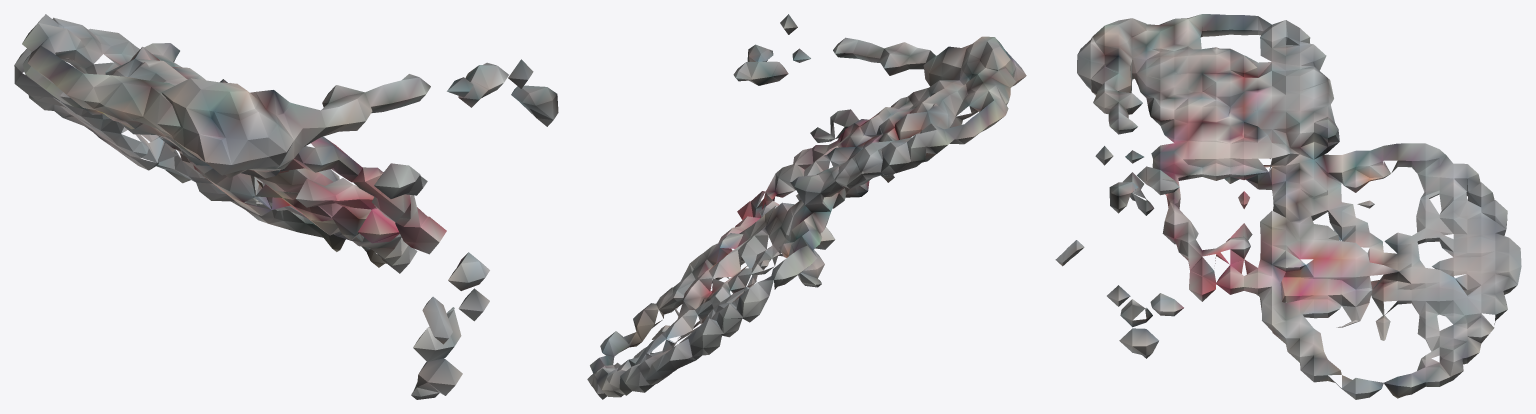
File: 000001_bicycle_sport_bike_10240_64.glb
3 renders of one model, left to right at view 1: azimuth 30°, elevation 25°; view 2: azimuth 150°, elevation 25°; view 3: azimuth 270°, elevation 25°, orthographic. The views are drawn at different scales.
Parts seen in each view (by area): view 1: world; view 2: world; view 3: world.
Boxes of the visible parts, left/top/right/bottom form: world: left=14, top=14, right=558, bottom=399; world: left=587, top=14, right=1026, bottom=399; world: left=1055, top=14, right=1521, bottom=399.
Bounding box in the file's own units: 0.6845 × 0.5861 × 0.9223.
